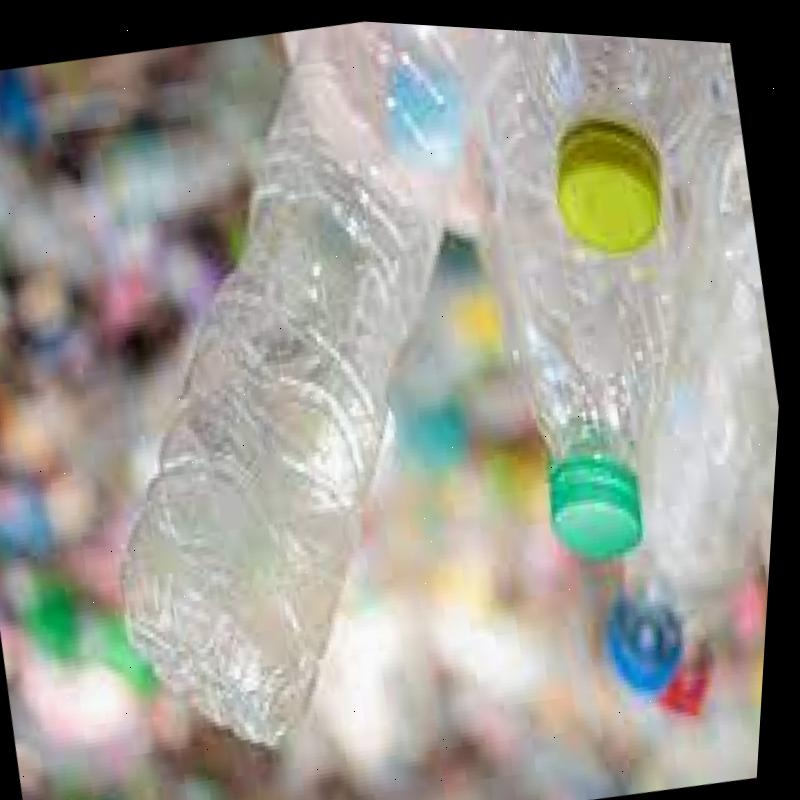botella: (18, 2, 604, 785), (492, 125, 795, 713), (455, 58, 798, 574), (494, 24, 765, 274)
